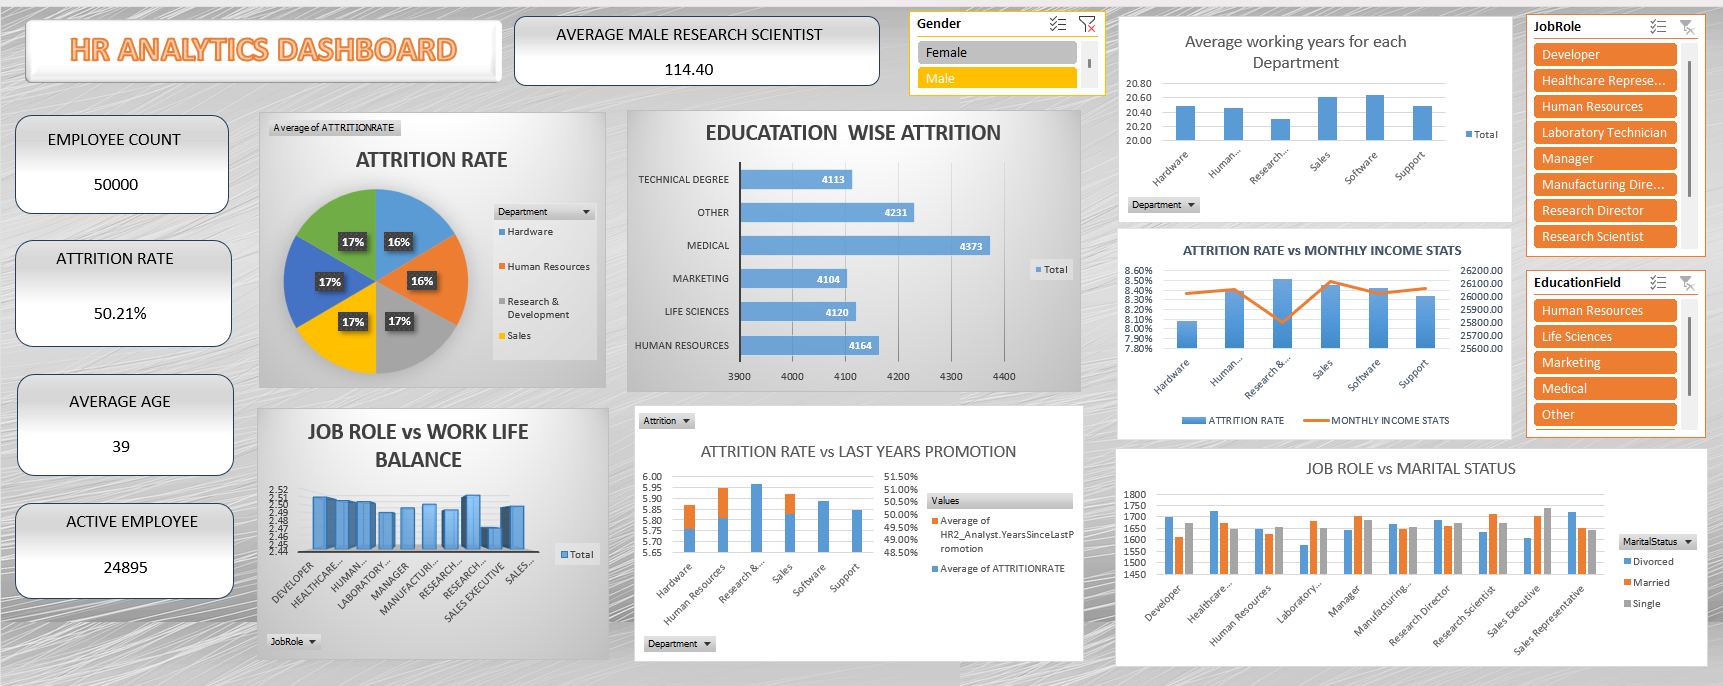

Layout of this report page (visuals, bound fields, positions):
{"tool":"powerbi","page":{"name":"1","canvas":[1280,720],"ordinal":0},"visuals":[{"type":"tableEx","title":"TOTAL EMPLOYEES","fields":{"Values":["HR1_Analyst.ATTRITION_RATE"]},"box":[466.3,108.5,232.2,102.5],"z":0,"group":"g1"},{"type":"clusteredColumnChart","title":"ACTIVE_EMPLOYEES and ATTRITION_COUNT by Department","fields":{"Category":["HR1_Analyst.Department"],"Y":["HR1_Analyst.ACTIVE_EMPLOYEES","HR1_Analyst.ATTRITION_COUNT"]},"box":[8.4,240,309.9,241.2],"z":0},{"type":"tableEx","title":"TOTAL EMPLOYEES","fields":{"Values":["HR1_Analyst.ACTIVE_EMPLOYEES"]},"box":[686.7,108.5,245.6,99.8],"z":1000,"group":"g1"},{"type":"clusteredBarChart","fields":{"Category":["HR1_Analyst.EducationField"],"Y":["HR1_Analyst.ACTIVE_EMPLOYEES"]},"box":[9.6,498.1,308.7,221.9],"z":1000},{"type":"tableEx","title":"TOTAL EMPLOYEES","fields":{"Values":["HR1_Analyst.ATTRITION_COUNT"]},"box":[241.4,108.5,228.1,99.8],"z":2000,"group":"g1"},{"type":"pivotTable","fields":{"Rows":["HR1_Analyst.JobRole"],"Columns":["HR1_Analyst.JobSatisfaction"],"Values":["HR1_Analyst.ACTIVE_EMPLOYEES"]},"box":[944.3,498.1,335.3,221.9],"z":2000},{"type":"tableEx","title":"TOTAL EMPLOYEES","fields":{"Values":["HR1_Analyst.AVERAGE_AGE"]},"box":[932.3,108.5,193,99.8],"z":3000,"group":"g1"},{"type":"donutChart","title":"PerformanceRating by Department","fields":{"Category":["HR1_Analyst.Department"],"Y":["Avg(HR2_Analyst.PerformanceRating)"]},"box":[671.8,498.1,259.3,221.9],"z":3000},{"type":"tableEx","title":"TOTAL EMPLOYEES","fields":{"Values":["HR1_Analyst.EmployeeCount"]},"box":[13.3,108.5,228.1,99.8],"z":4000,"group":"g1"},{"type":"donutChart","fields":{"Category":["HR1_Analyst.Education"],"Y":["HR1_Analyst.ACTIVE_EMPLOYEES"]},"box":[998.6,240,281,241.2],"z":4000},{"type":"columnChart","title":"JOB ROLE vs WORK LIFE BALANCE","fields":{"Category":["HR1_Analyst.JobRole"],"Y":["Avg(HR2_Analyst.WorkLifeBalance)"]},"box":[624.7,240,363,241.2],"z":5000},{"type":"lineClusteredColumnComboChart","title":"Average working years for each Department","fields":{"Category":["HR1_Analyst.Department"],"Y2":["Avg(HR2_Analyst.TotalWorkingYears)"]},"box":[330.5,498.1,328,221.9],"z":6000},{"type":"stackedAreaChart","title":"ATTRITION RATE vs LAST YEARS PROMOTION","fields":{"Category":["HR1_Analyst.Department"],"Y":["Avg(HR2_Analyst.YearsSinceLastPromotion)","HR1_Analyst.ATTRI_RATE"]},"box":[334.1,240,278.6,241.2],"z":7000},{"type":"slicer","fields":{"Values":["HR1_Analyst.Gender"]},"box":[833.4,19.3,267.7,59.1],"z":8000},{"type":"slicer","fields":{"Values":["HR1_Analyst.MaritalStatus"]},"box":[1112,13.3,167.6,215.9],"z":9000},{"type":"textbox","box":[100.1,13.3,733.3,68.7],"z":10000},{"type":"group","id":"g1","title":"Group 1","box":[13.3,108.5,1112,102.5],"z":11000}]}

Visuals, with their boxes on the page's 1280x720 design canvas (x1, y1, x2, y2). These are canvas units, not pixel positions in the 1723x686 screenshot, which may show the page scaled, cropped or inside an application window:
"TOTAL EMPLOYEES" tableEx: {"x1": 466, "y1": 108, "x2": 698, "y2": 211}
"ACTIVE_EMPLOYEES and ATTRITION_COUNT by Department" clusteredColumnChart: {"x1": 8, "y1": 240, "x2": 318, "y2": 481}
"TOTAL EMPLOYEES" tableEx: {"x1": 687, "y1": 108, "x2": 932, "y2": 208}
clusteredBarChart - HR1_Analyst.EducationField x HR1_Analyst.ACTIVE_EMPLOYEES: {"x1": 10, "y1": 498, "x2": 318, "y2": 720}
"TOTAL EMPLOYEES" tableEx: {"x1": 241, "y1": 108, "x2": 470, "y2": 208}
pivotTable - HR1_Analyst.JobRole x HR1_Analyst.JobSatisfaction: {"x1": 944, "y1": 498, "x2": 1280, "y2": 720}
"TOTAL EMPLOYEES" tableEx: {"x1": 932, "y1": 108, "x2": 1125, "y2": 208}
"PerformanceRating by Department" donutChart: {"x1": 672, "y1": 498, "x2": 931, "y2": 720}
"TOTAL EMPLOYEES" tableEx: {"x1": 13, "y1": 108, "x2": 241, "y2": 208}
donutChart - HR1_Analyst.Education x HR1_Analyst.ACTIVE_EMPLOYEES: {"x1": 999, "y1": 240, "x2": 1280, "y2": 481}
"JOB ROLE vs WORK LIFE BALANCE" columnChart: {"x1": 625, "y1": 240, "x2": 988, "y2": 481}
"Average working years for each Department" lineClusteredColumnComboChart: {"x1": 330, "y1": 498, "x2": 658, "y2": 720}
"ATTRITION RATE vs LAST YEARS PROMOTION" stackedAreaChart: {"x1": 334, "y1": 240, "x2": 613, "y2": 481}
slicer - HR1_Analyst.Gender: {"x1": 833, "y1": 19, "x2": 1101, "y2": 78}
slicer - HR1_Analyst.MaritalStatus: {"x1": 1112, "y1": 13, "x2": 1280, "y2": 229}
textbox: {"x1": 100, "y1": 13, "x2": 833, "y2": 82}
"Group 1" group: {"x1": 13, "y1": 108, "x2": 1125, "y2": 211}
